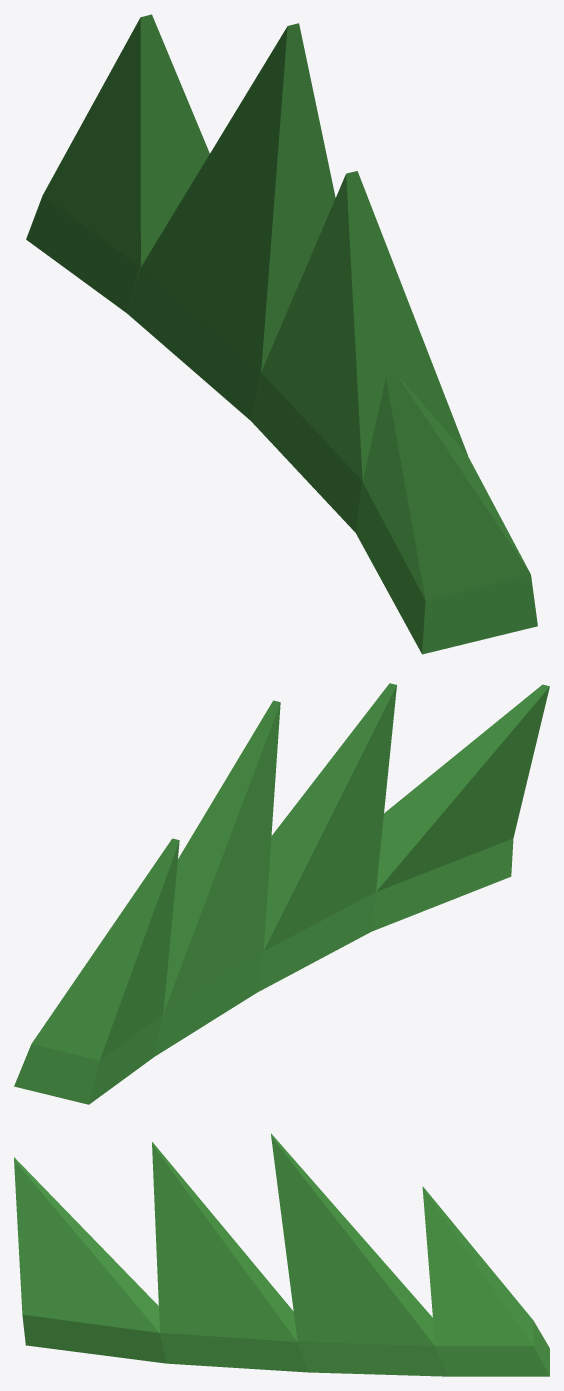
File: Grass1.fbx
3 views of the same model, one above another, from view 1: azimuth 30°, elevation 25°; view 2: azimuth 150°, elevation 25°; view 3: azimuth 270°, elevation 25° (orthographic). The views are drawn at different scales.
Visible parts, largest first — view 1: Cube; view 2: Cube; view 3: Cube.
Part boxes in pixels (bbox=[...]): Cube: bbox=[26, 14, 537, 654]; Cube: bbox=[14, 683, 549, 1104]; Cube: bbox=[14, 1133, 549, 1376].
Size of the model in its own units: 0.003 by 0.00414 by 0.00953.
